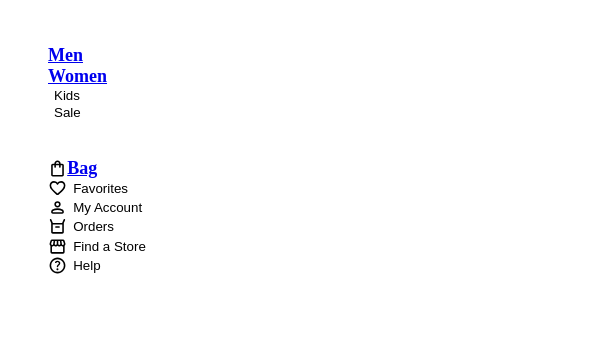
Test: Sidebar component › navigation of links to correct route › renders the shopping bag page when the nav link is clicked
The width and height of the screenshot is (609, 343).
Click the link "Bag": (82,168) [67,158,97,179]
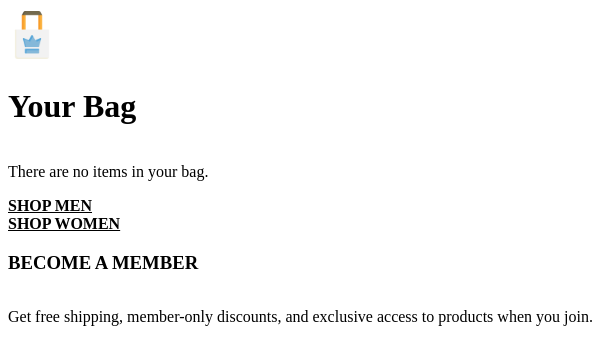
Check: the heading "Your Bag" is shown, box [8,88,136,125]
